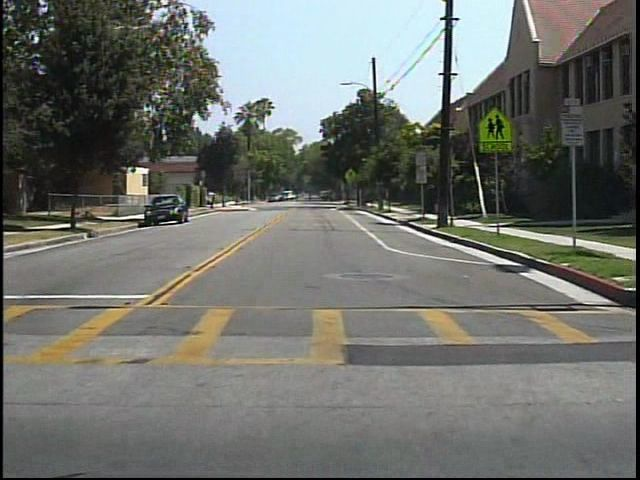person: (304, 188, 318, 206)
